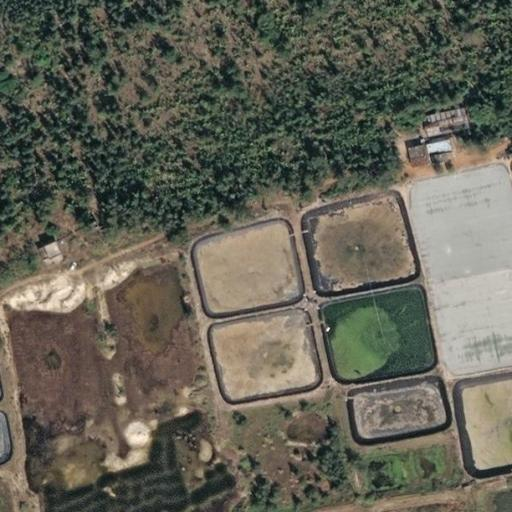building: (410, 104, 457, 136), (412, 135, 443, 156), (393, 143, 417, 168), (24, 241, 48, 263)
